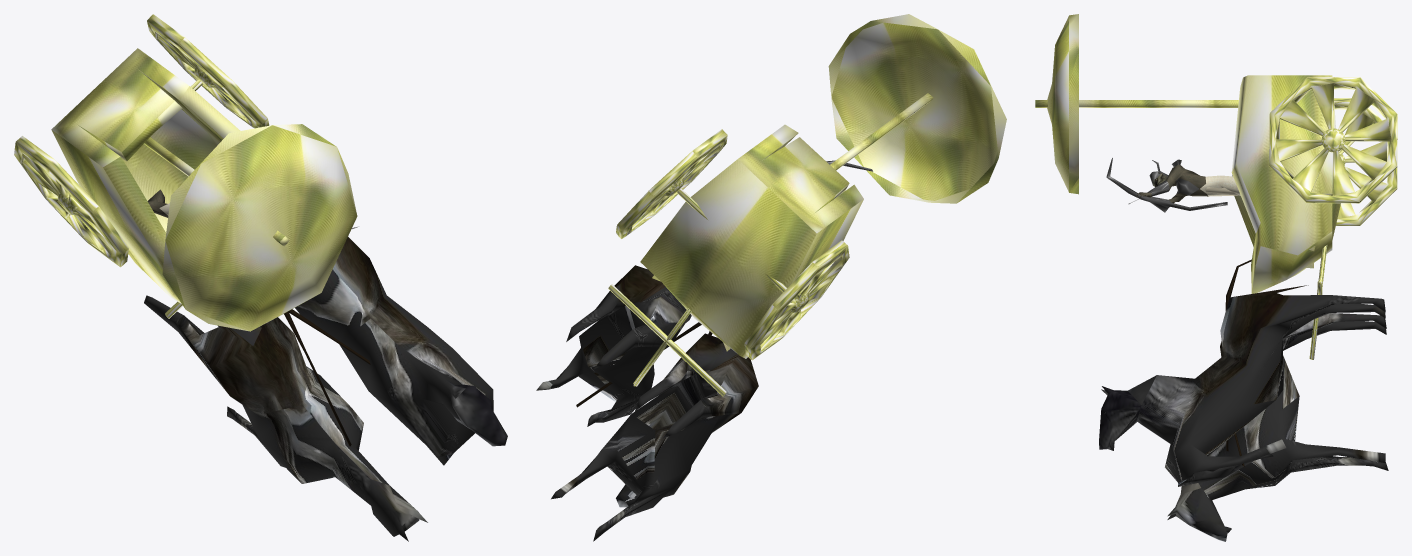
The model's file is chariot_000208.obj.
3 renders of one model, left to right at view 1: azimuth 30°, elevation 25°; view 2: azimuth 150°, elevation 25°; view 3: azimuth 270°, elevation 25°, orthographic. The views are drawn at different scales.
Visible parts, largest first — view 1: umbrella_Sphere, chariot_Cube.001, Horse.000_objHorse_0.001, Horse.001_objHorse_0.002, wheelR_Cylinder, wheelL_Cylinder.003, Cylinder_Cylinder.001; view 2: chariot_Cube.001, umbrella_Sphere, Horse.000_objHorse_0.001, Horse.001_objHorse_0.002, wheelR_Cylinder, wheelL_Cylinder.003, rod_Cylinder.002; view 3: Horse.001_objHorse_0.002, chariot_Cube.001, Horse.000_objHorse_0.001, wheelL_Cylinder.003, umbrella_Sphere, A4_Circle, wheelR_Cylinder, rod_Cylinder.002.
Part boxes in pixels (box(x1,y1,x2,y2)): umbrella_Sphere: box(144, 124, 357, 331); chariot_Cube.001: box(51, 48, 240, 303); Horse.000_objHorse_0.001: box(144, 295, 427, 541); Horse.001_objHorse_0.002: box(295, 237, 507, 465); wheelR_Cylinder: box(14, 136, 128, 267); wheelL_Cylinder.003: box(147, 14, 269, 128); Cylinder_Cylinder.001: box(284, 309, 370, 446); chariot_Cube.001: box(640, 124, 863, 358); umbrella_Sphere: box(828, 14, 1006, 203); Horse.000_objHorse_0.001: box(551, 333, 758, 541); Horse.001_objHorse_0.002: box(536, 265, 691, 426); wheelR_Cylinder: box(744, 240, 849, 360); wheelL_Cylinder.003: box(616, 129, 727, 238); rod_Cylinder.002: box(608, 188, 786, 396); Horse.001_objHorse_0.002: box(1099, 285, 1385, 486); chariot_Cube.001: box(1231, 75, 1340, 293); Horse.000_objHorse_0.001: box(1167, 313, 1388, 541); wheelL_Cylinder.003: box(1269, 77, 1397, 203); umbrella_Sphere: box(1035, 14, 1238, 194); A4_Circle: box(1106, 158, 1240, 212); wheelR_Cylinder: box(1334, 98, 1397, 225); rod_Cylinder.002: box(1309, 245, 1327, 359).
Size of the model in its own units: 6.66 by 8.26 by 6.33.
